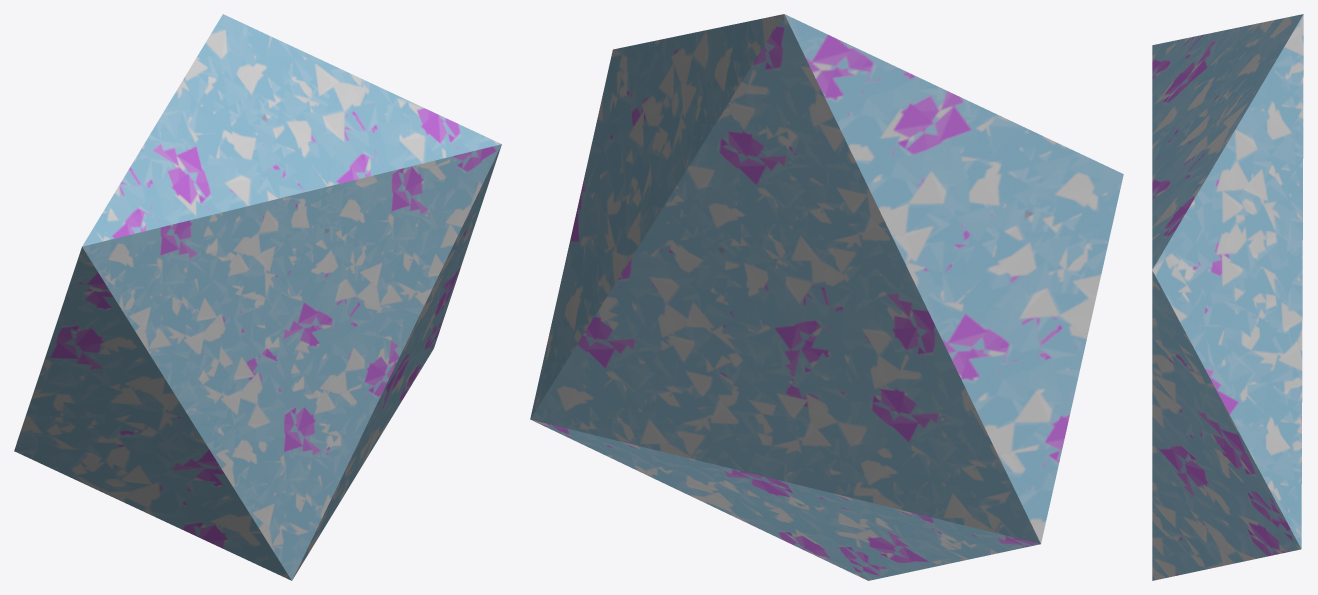
Rendered from LowPolyInsulinCrystalToScale.fbx.
The picture shows the model from 3 angles, left to right: view 1: azimuth 30°, elevation 25°; view 2: azimuth 150°, elevation 25°; view 3: azimuth 270°, elevation 25°; orthographic projection. The views are drawn at different scales.
Visible parts, largest first — view 1: Cube; view 2: Cube; view 3: Cube.
Boxes of the visible parts, x1,y1,x2,y2 form: Cube: (14, 14, 501, 580); Cube: (530, 14, 1123, 580); Cube: (1152, 14, 1303, 580).
Bounding box in the file's own units: 5375 × 6318 × 1530.
Materials: 1 (1 with a texture image).
